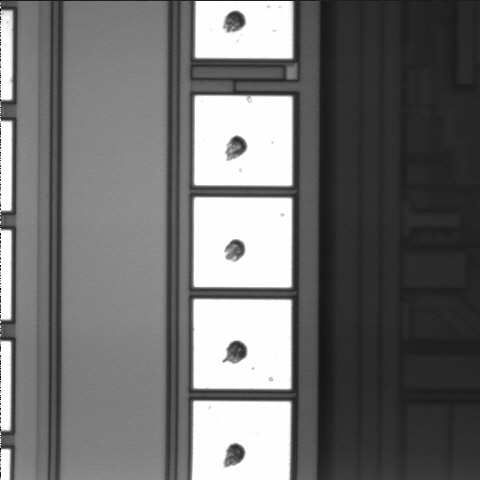pad: (194, 96, 292, 186), (194, 197, 292, 287), (194, 299, 291, 389)
